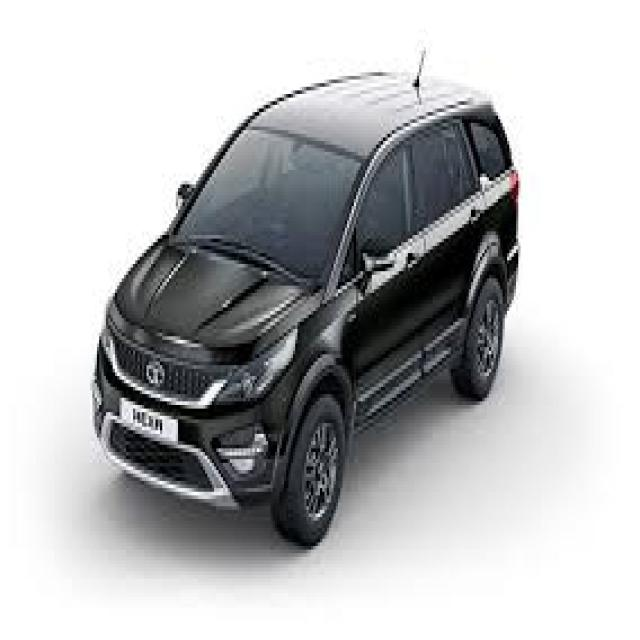SUV: (88, 70, 520, 546)
